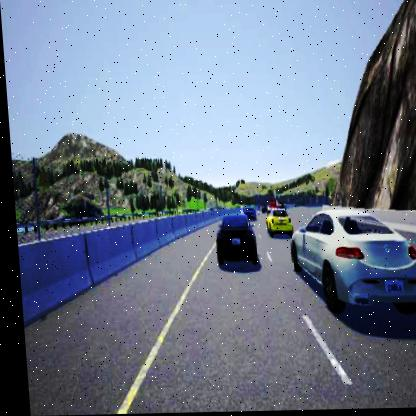vehicle: (281, 197, 416, 313), (210, 207, 255, 266), (261, 205, 289, 240)
